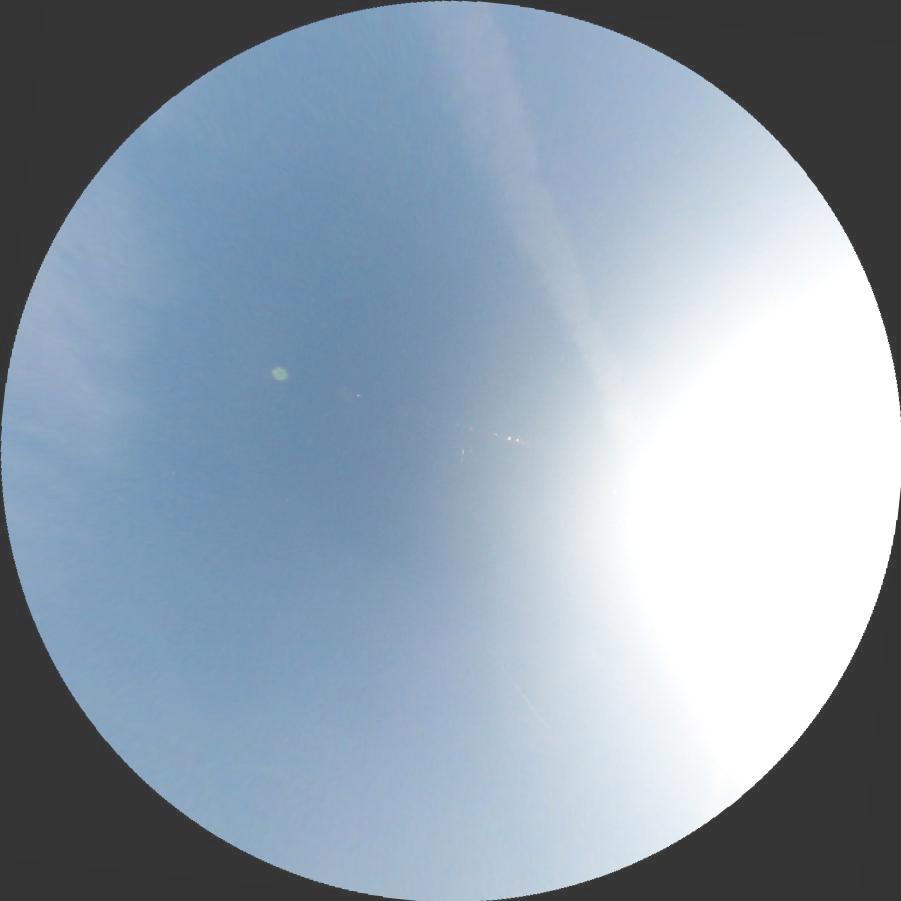contrail veryold: (409, 0, 696, 517)
contrail young: (500, 664, 550, 728)
sun: (648, 378, 901, 673)
